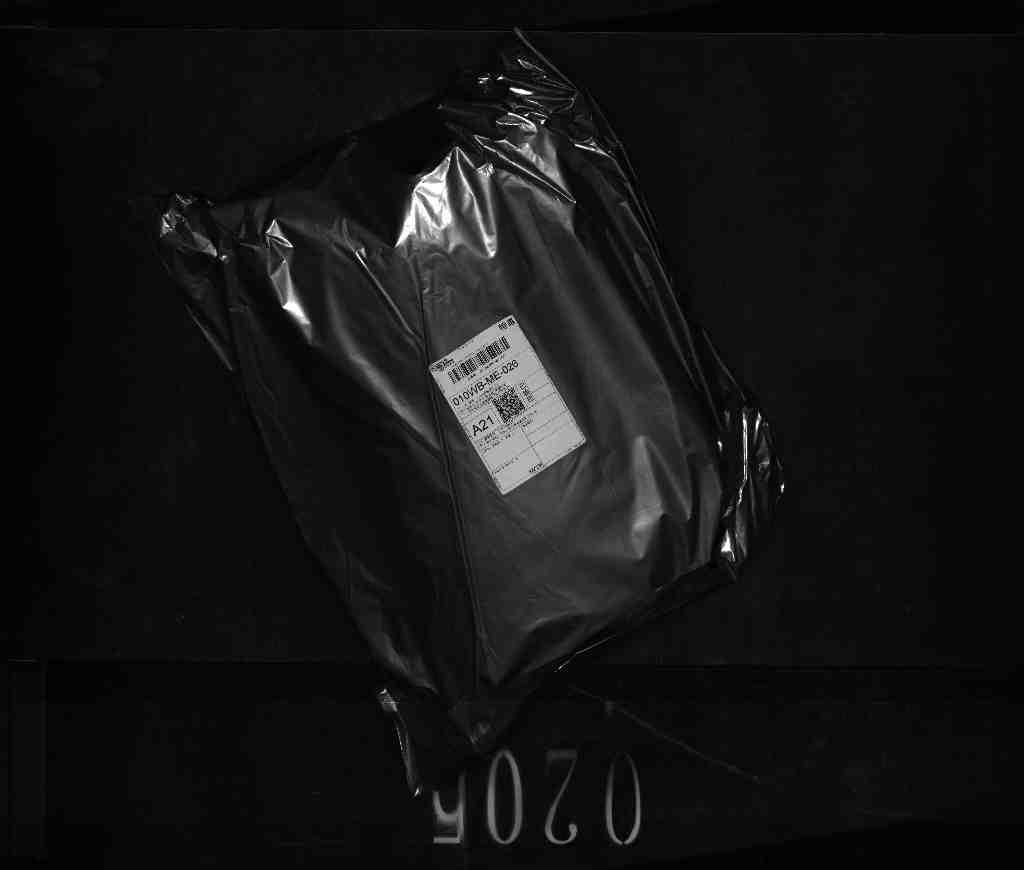box: (131, 31, 799, 784)
